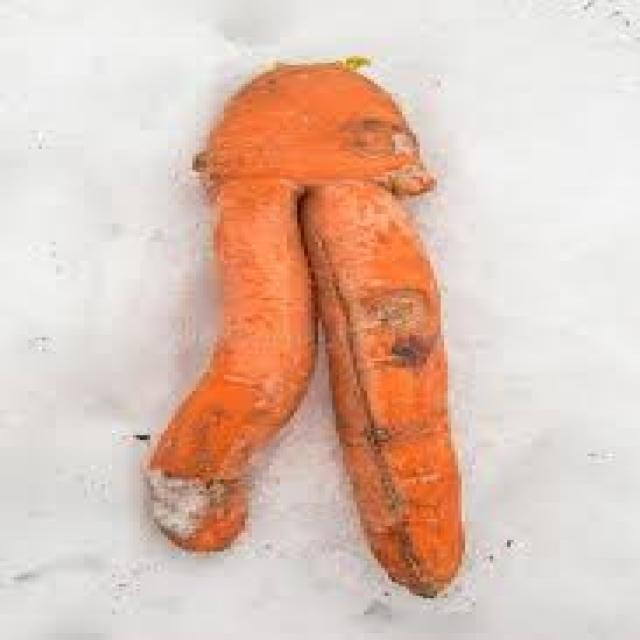Stale_Carrot: (148, 64, 462, 594), (150, 64, 462, 596)
